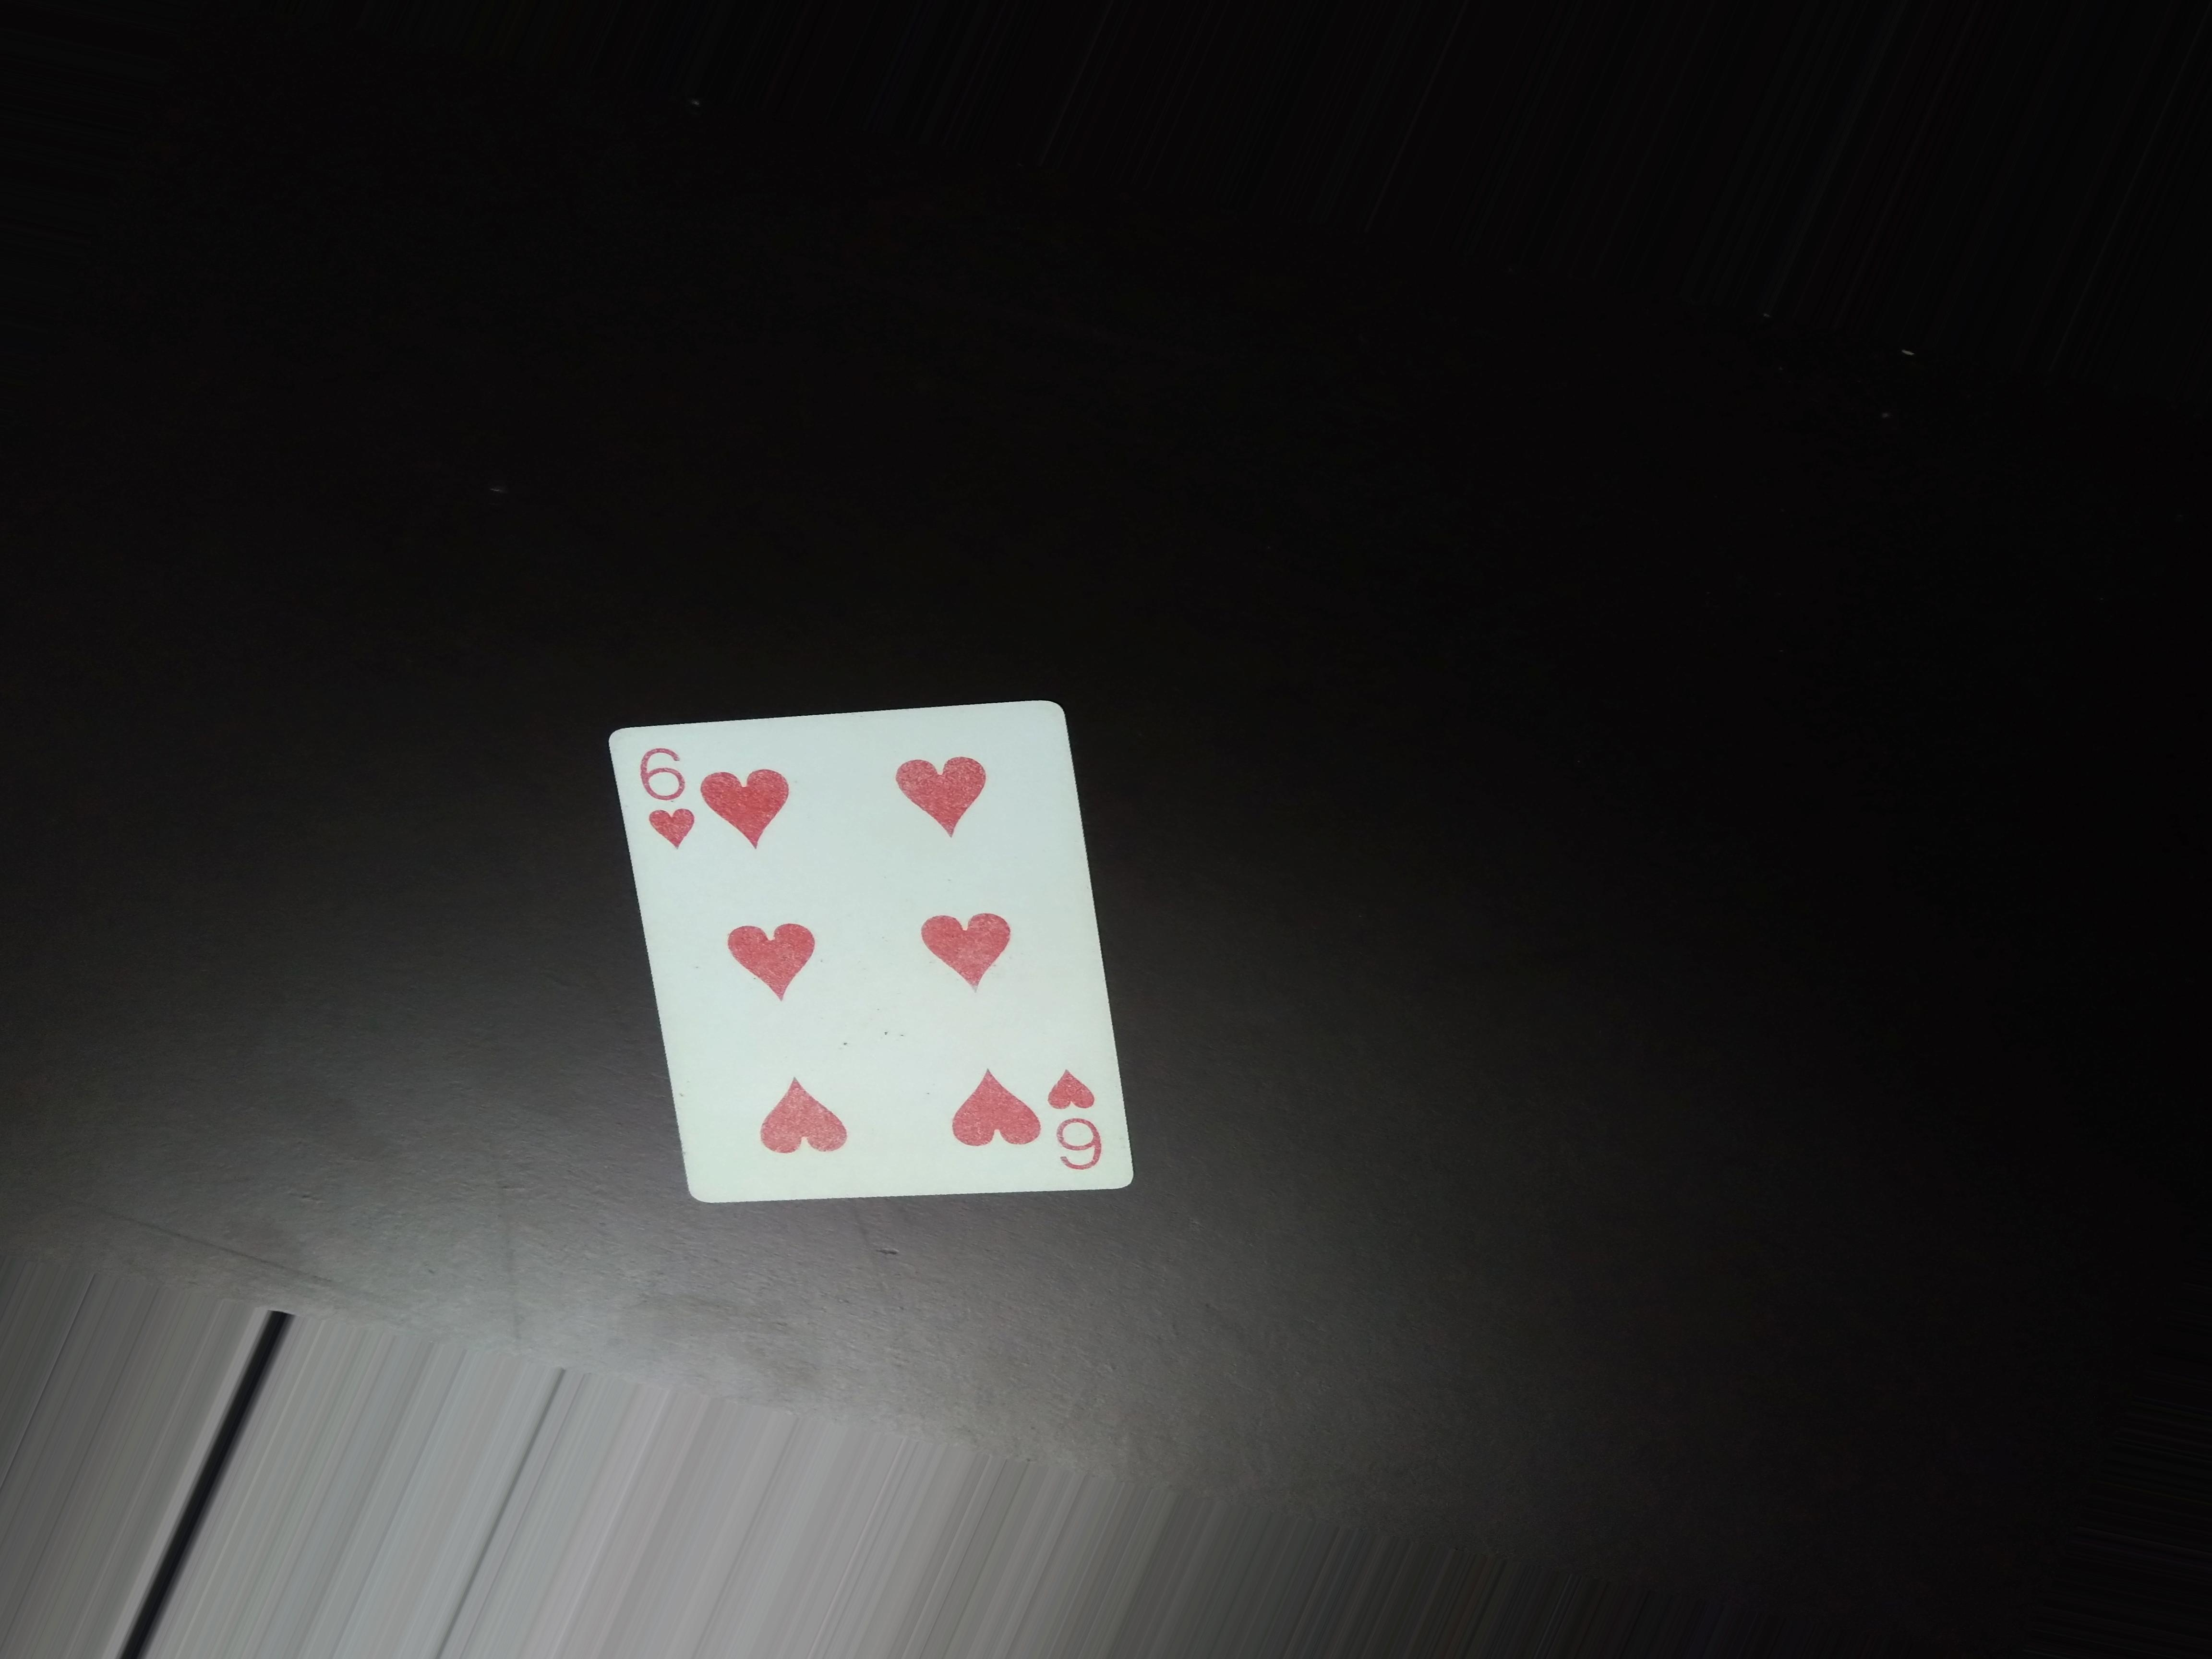6H: (1040, 1060, 1113, 1176)
